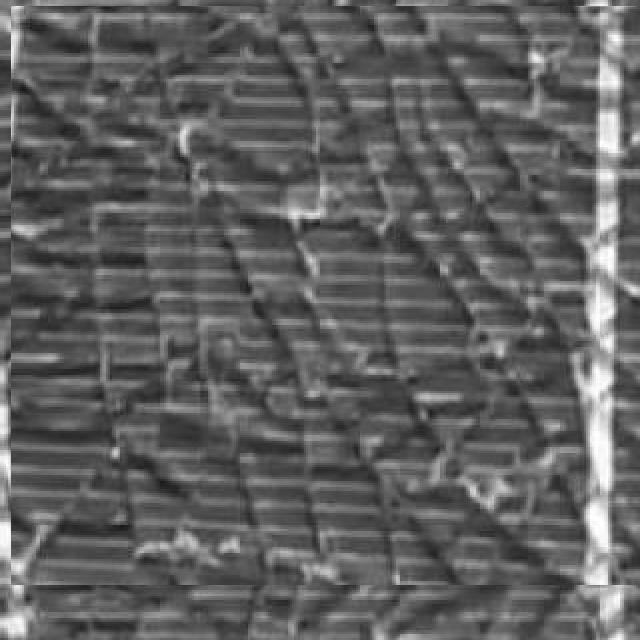Physical-damage: (11, 6, 640, 585)
